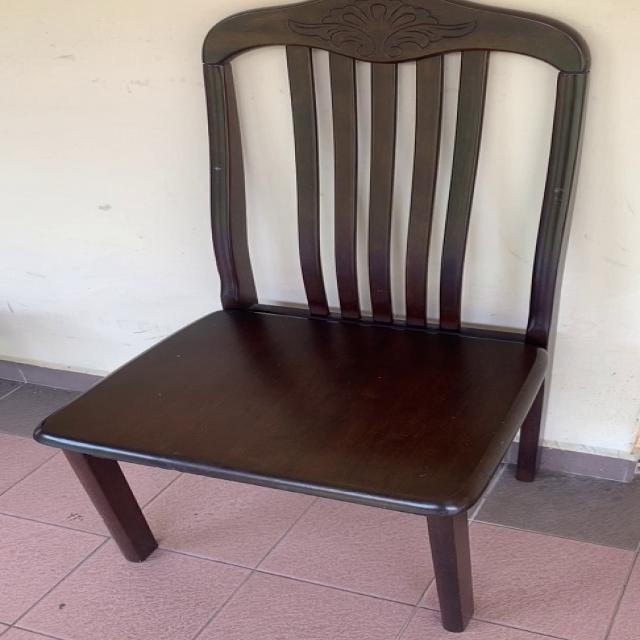Chair: (22, 3, 615, 637)
